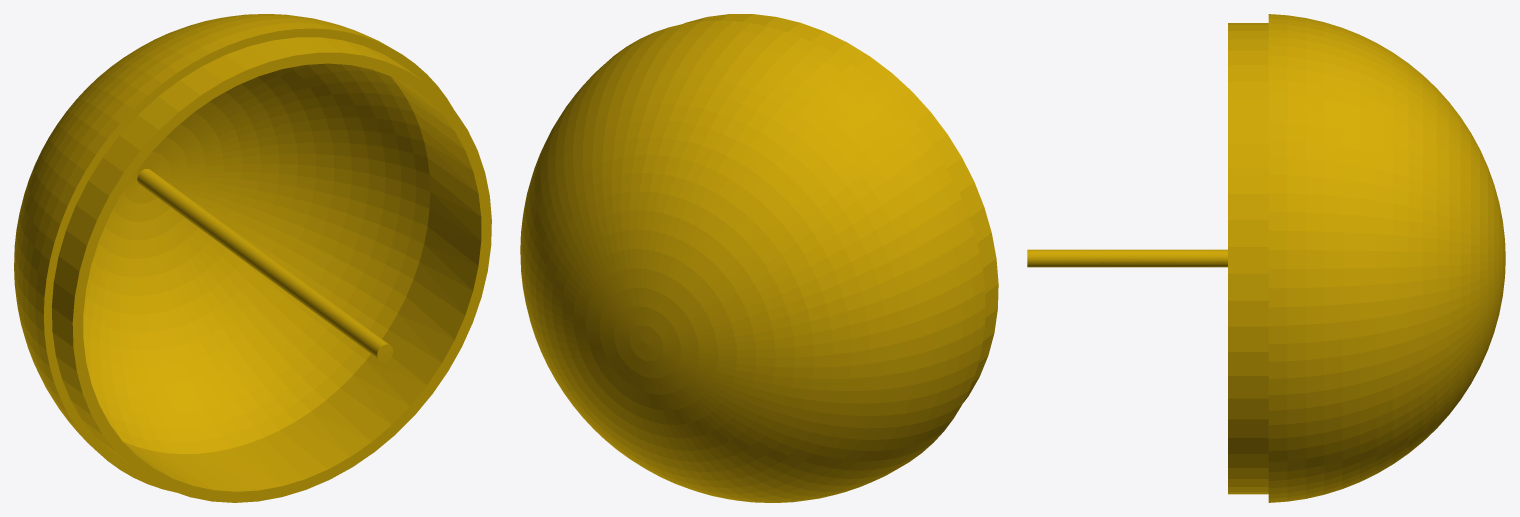
The model's file is shell_ctl_side.dae.
The picture shows the model from 3 angles, left to right: view 1: azimuth 30°, elevation 25°; view 2: azimuth 150°, elevation 25°; view 3: azimuth 270°, elevation 25°; orthographic projection. The views are drawn at different scales.
Visible parts, largest first — view 1: Shell_Control_Side; view 2: Shell_Control_Side; view 3: Shell_Control_Side.
Boxes of the visible parts, box(x1,y1,x2,y2) form: Shell_Control_Side: box(14, 14, 491, 502); Shell_Control_Side: box(520, 14, 998, 502); Shell_Control_Side: box(1027, 14, 1505, 502).
Size of the model in its own units: 0.0817 by 0.0799 by 0.0817.
